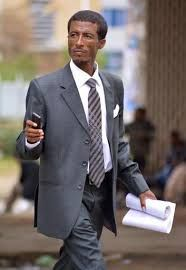no-mask: (55, 7, 113, 70)
